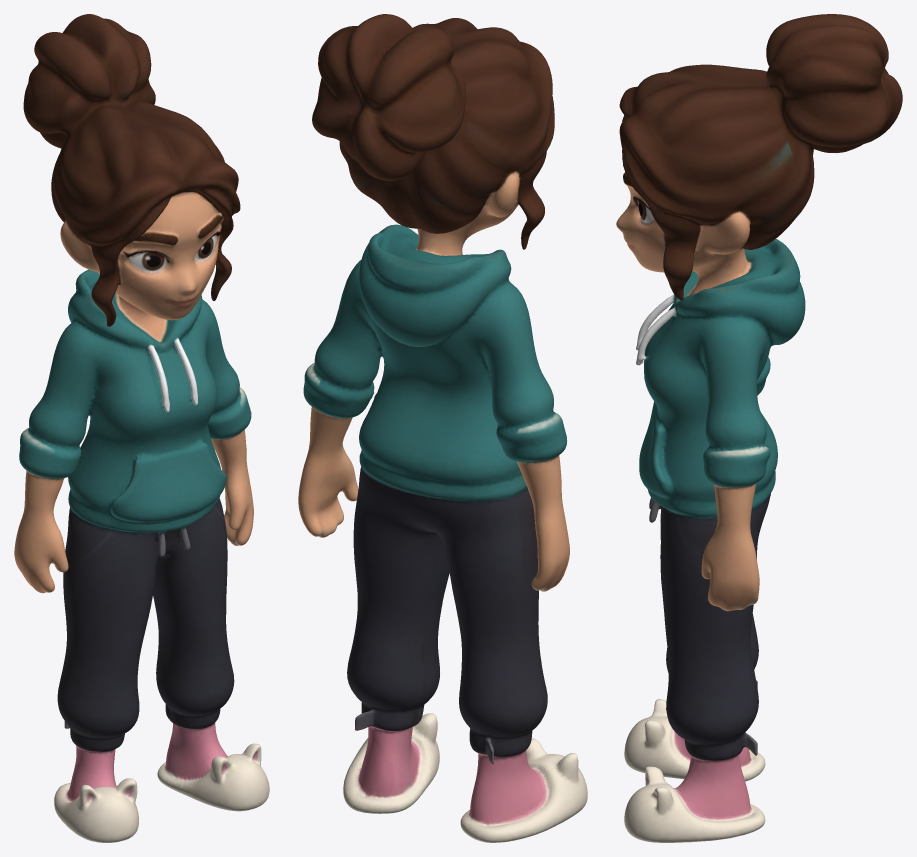
The model's file is valeria_meshy.glb.
3 renders of one model, left to right at view 1: azimuth 30°, elevation 25°; view 2: azimuth 150°, elevation 25°; view 3: azimuth 270°, elevation 25°, orthographic. The views are drawn at different scales.
Bounding box in the file's own units: 0.6226 × 1.9 × 0.6335.
Materials: 1 (1 with a texture image).
